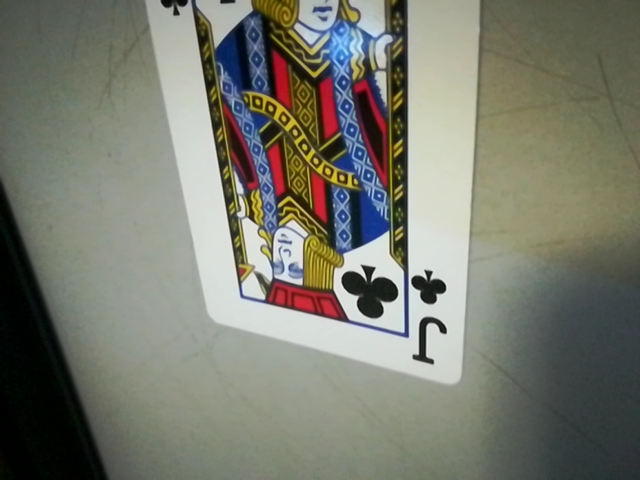mh j: (400, 263, 461, 375)
